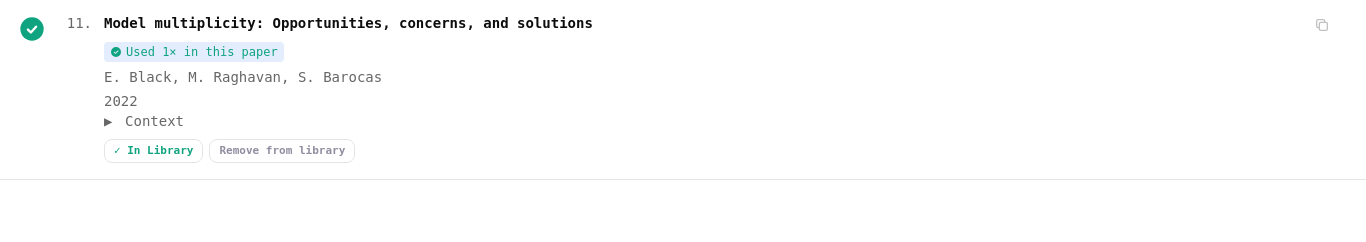
Test: ReferenceCard › highlights author-year citation markers inside context excerpts
Click the button "▶ Context" at coordinates (164, 121), box [104,111,224,131]
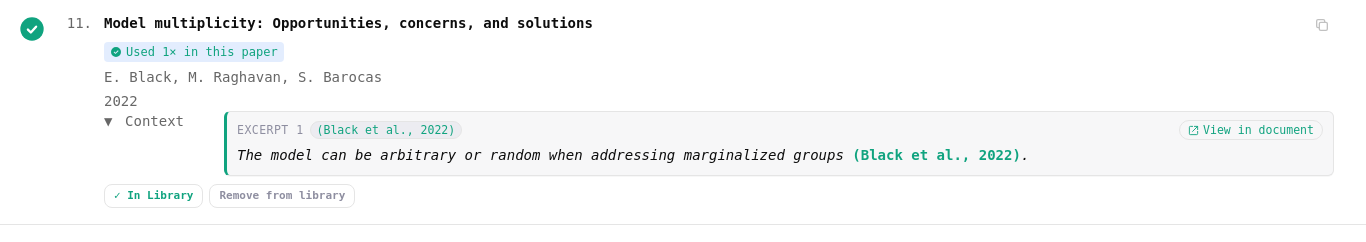
Expected: the 2nd text "(Black et al., 2022)" is shown, [852,147,1021,163]
